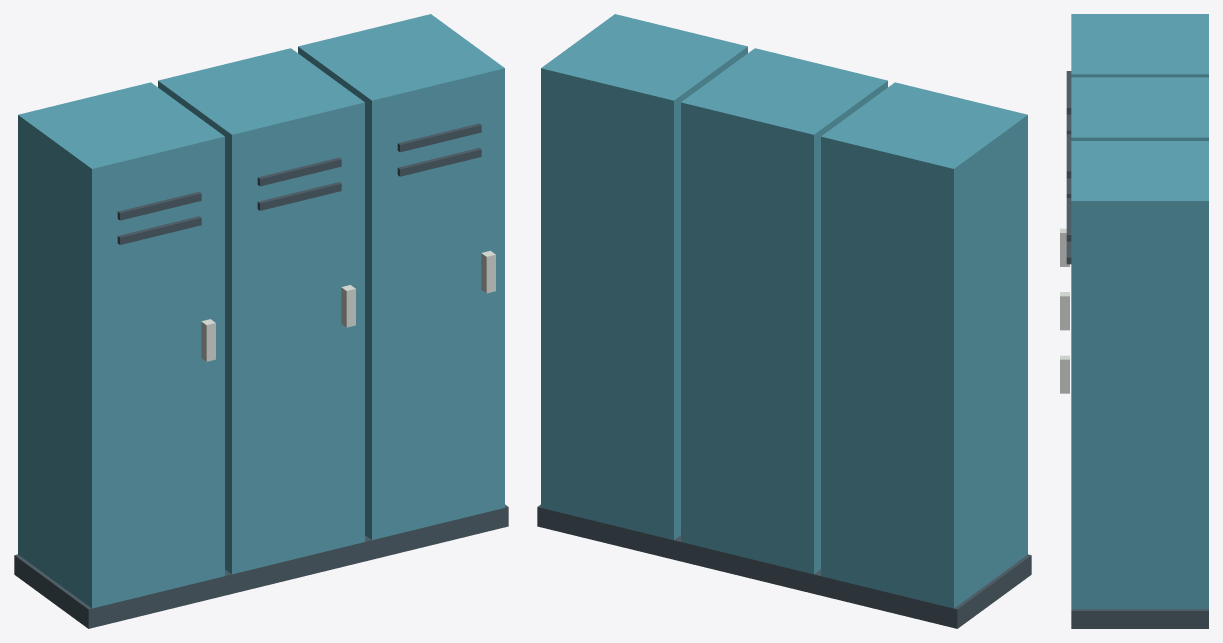
File: worker-locker-bank.glb
The picture shows the model from 3 angles, left to right: view 1: azimuth 30°, elevation 25°; view 2: azimuth 150°, elevation 25°; view 3: azimuth 270°, elevation 25°; orthographic projection. The views are drawn at different scales.
Visible parts, largest first — view 1: blue, dark, cream; view 2: blue, dark; view 3: blue, dark, cream.
Boxes of the visible parts, left/top/right/bottom form: blue: left=18, top=14, right=504, bottom=608; dark: left=14, top=123, right=508, bottom=628; cream: left=201, top=250, right=495, bottom=361; blue: left=541, top=14, right=1027, bottom=608; dark: left=537, top=504, right=1031, bottom=628; blue: left=1071, top=14, right=1208, bottom=609; dark: left=1066, top=71, right=1208, bottom=628; cream: left=1060, top=228, right=1069, bottom=393.
Size of the model in its own units: 1.8 by 1.88 by 0.595.
